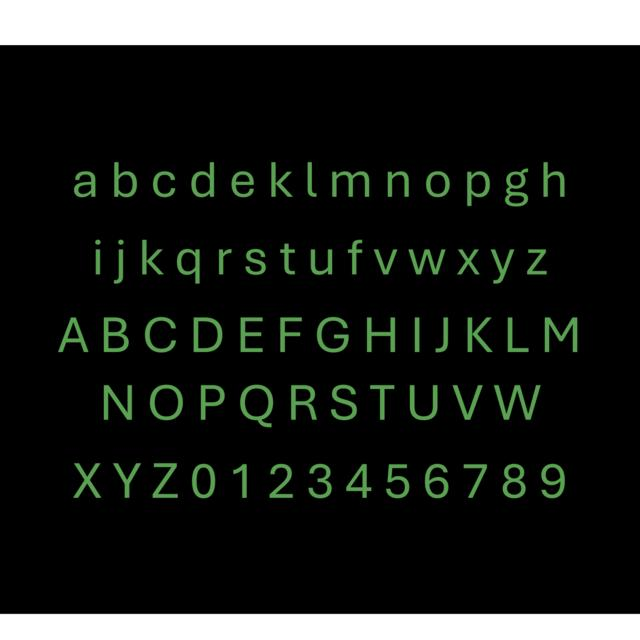alphabet: (492, 384, 536, 421), (404, 382, 443, 423), (238, 384, 274, 428), (97, 314, 131, 358), (142, 315, 178, 353), (497, 461, 531, 501), (150, 384, 185, 422), (544, 316, 579, 353), (502, 166, 532, 209), (266, 459, 296, 502), (315, 316, 350, 352), (304, 461, 334, 502), (451, 382, 483, 420), (111, 460, 142, 498), (102, 384, 134, 420), (369, 383, 400, 420), (511, 383, 542, 420), (193, 316, 224, 352), (109, 238, 131, 288), (366, 316, 396, 352), (59, 316, 88, 353), (74, 460, 102, 498), (332, 383, 359, 421), (332, 170, 370, 197), (408, 250, 447, 276), (464, 170, 490, 208), (288, 384, 316, 419), (176, 248, 201, 287), (467, 316, 494, 352), (153, 462, 180, 498), (461, 463, 489, 497), (112, 161, 137, 199), (423, 464, 449, 500), (490, 249, 515, 286), (192, 161, 216, 199), (192, 462, 216, 500), (541, 462, 566, 498), (346, 463, 370, 499), (386, 463, 410, 499), (240, 316, 263, 352), (201, 384, 225, 418), (271, 161, 293, 198), (141, 237, 163, 274), (425, 171, 452, 199), (281, 316, 302, 351), (545, 162, 566, 196), (308, 249, 333, 277), (72, 170, 96, 198), (373, 248, 398, 274), (151, 171, 175, 198), (232, 171, 255, 199), (244, 250, 266, 278), (347, 238, 364, 274), (526, 248, 548, 275), (457, 248, 479, 274), (388, 170, 409, 197), (280, 242, 296, 275), (437, 317, 451, 354), (234, 463, 249, 497), (216, 248, 232, 274), (306, 161, 317, 198), (94, 238, 103, 274), (413, 316, 421, 352)
